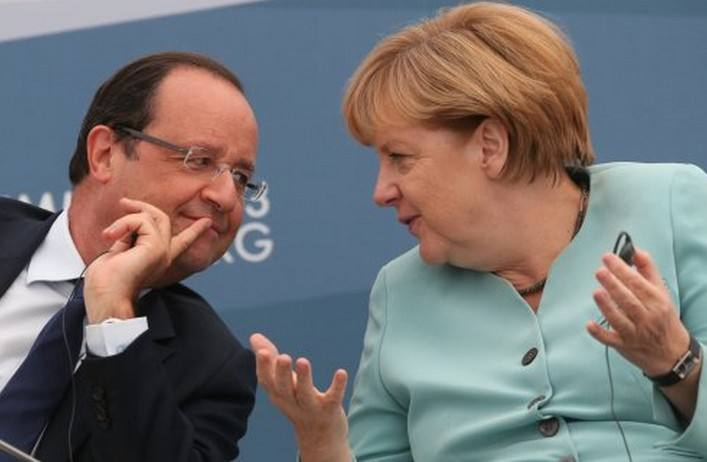no-phone: (249, 328, 353, 447)
